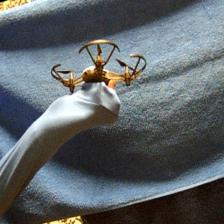drone: (50, 40, 146, 93)
